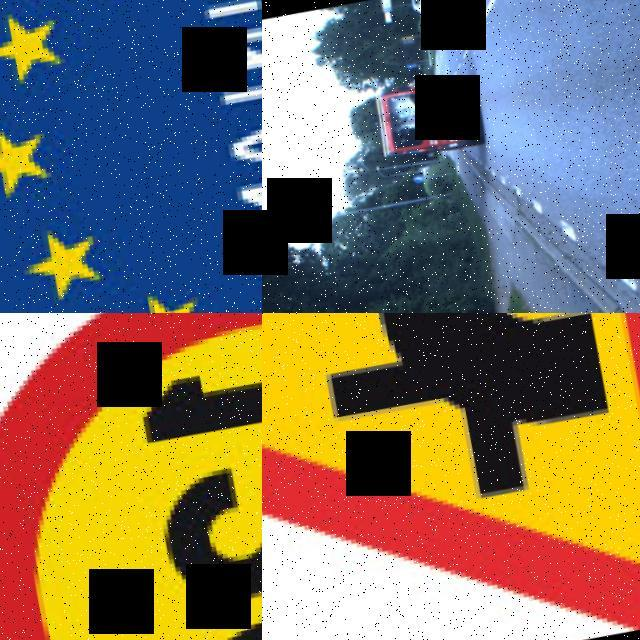166: (262, 313, 640, 640)
55: (0, 313, 262, 640)
National border: (0, 0, 262, 313)
